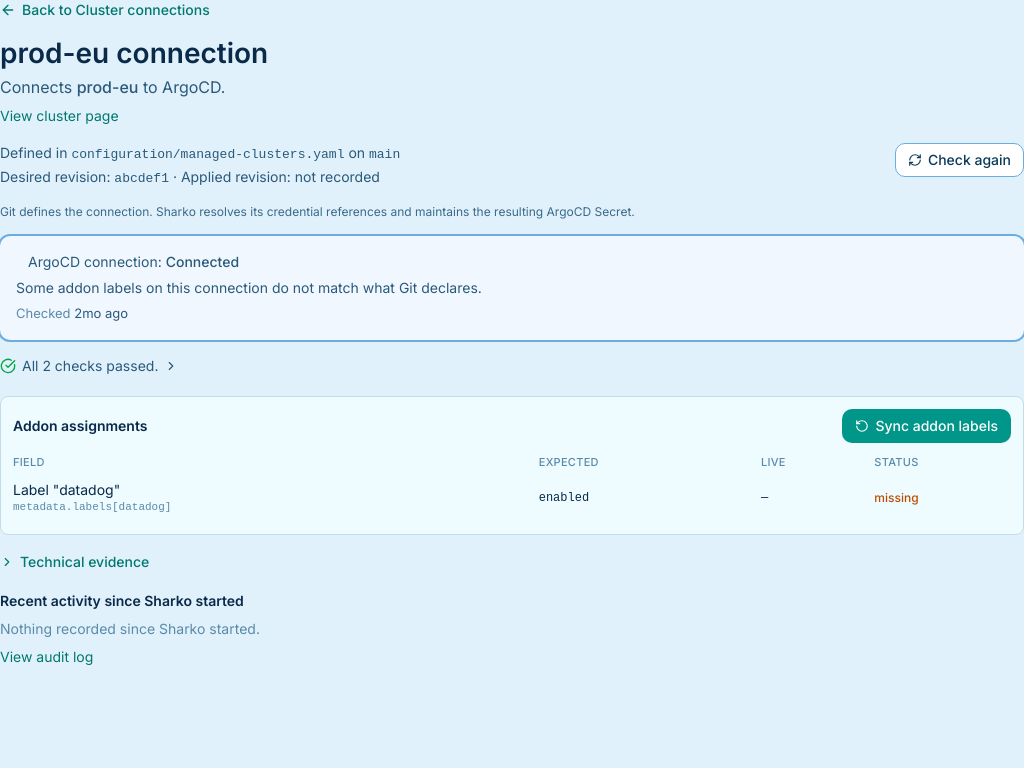
Scenario: HL-1 — the connection action is named for what it does › the connection detail page action reads "Sync addon labels", and its confirm carries the same name
Click the button with test id "recon-action-sync" at (927, 426), box [842,409,1011,443]
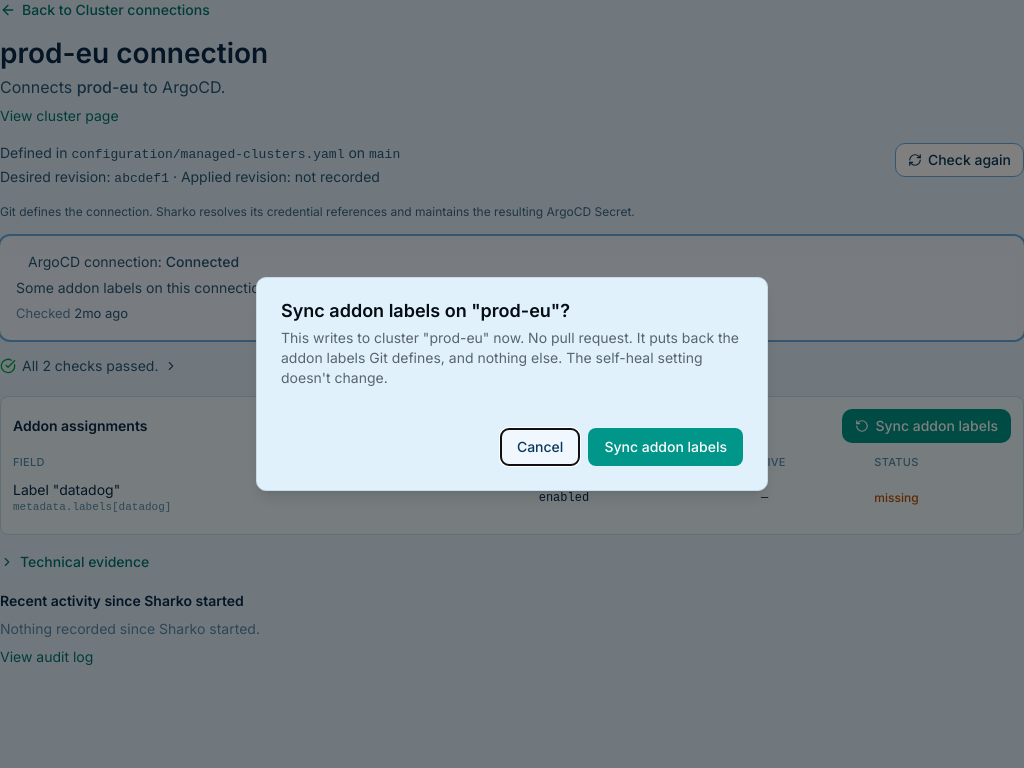
Result: the heading "Sync addon labels on \"prod-eu\"?" is shown at [281,300,570,321]
Result: the button "Sync addon labels" is shown at [588,428,743,466]
